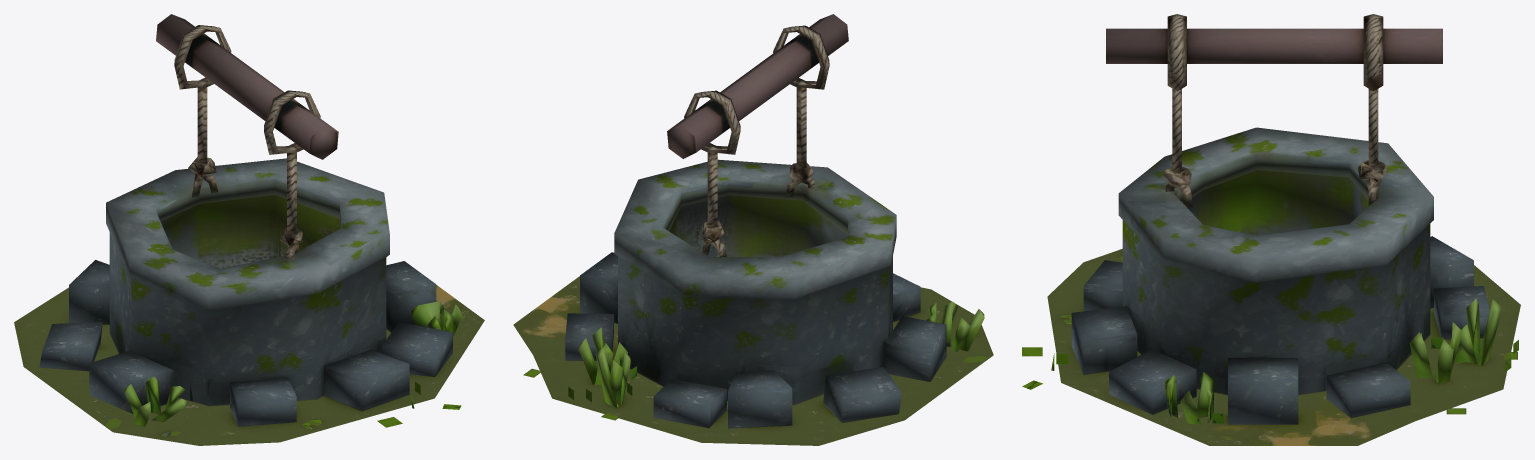
The model's file is Arch_Well_Stone.glb.
3 views of the same model, side by side, from view 1: azimuth 30°, elevation 25°; view 2: azimuth 150°, elevation 25°; view 3: azimuth 270°, elevation 25° (orthographic). The views are drawn at different scales.
Parts seen in each view (by area): view 1: tripo_node_50439551-1aea-4ea7-a385-a16ffec9288a; view 2: tripo_node_50439551-1aea-4ea7-a385-a16ffec9288a; view 3: tripo_node_50439551-1aea-4ea7-a385-a16ffec9288a.
Boxes of the visible parts, x1,y1,x2,y2 form: tripo_node_50439551-1aea-4ea7-a385-a16ffec9288a: (14,14,484,445); tripo_node_50439551-1aea-4ea7-a385-a16ffec9288a: (513,14,993,445); tripo_node_50439551-1aea-4ea7-a385-a16ffec9288a: (1022,14,1520,445).
Bounding box in the file's own units: 1.68 × 1.2 × 1.68.
Materials: 1 (1 with a texture image).
